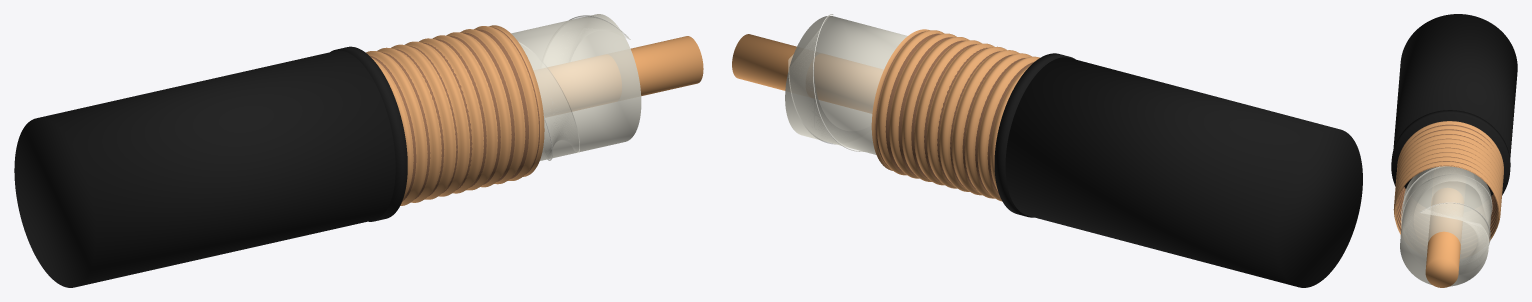
File: rf-fsj1.glb
3 views of the same model, side by side, from view 1: azimuth 30°, elevation 25°; view 2: azimuth 150°, elevation 25°; view 3: azimuth 270°, elevation 25° (orthographic). The views are drawn at different scales.
Visible parts, largest first — view 1: black PE jacket body, corrugated copper shield, foam PE dielectric, solid center conductor continuous, dark groove shadow pass, jacket cut lip, surface PTFE tape wrap; view 2: black PE jacket body, corrugated copper shield, foam PE dielectric, solid center conductor continuous, dark groove shadow pass, jacket cut lip, surface PTFE tape wrap; view 3: black PE jacket body, foam PE dielectric, corrugated copper shield, solid center conductor continuous, surface PTFE tape wrap, jacket cut lip, dark groove shadow pass, subtle PTFE tape lap line.
Boxes of the visible parts, <box> form: black PE jacket body: <box>14,50,395,287</box>; corrugated copper shield: <box>366,25,544,205</box>; foam PE dielectric: <box>511,14,641,160</box>; solid center conductor continuous: <box>534,36,703,116</box>; dark groove shadow pass: <box>369,27,539,201</box>; jacket cut lip: <box>330,46,407,221</box>; surface PTFE tape wrap: <box>519,16,629,159</box>; black PE jacket body: <box>1005,57,1362,287</box>; corrugated copper shield: <box>871,29,1039,201</box>; foam PE dielectric: <box>785,16,907,154</box>; solid center conductor continuous: <box>732,34,883,113</box>; dark groove shadow pass: <box>875,31,1034,194</box>; jacket cut lip: <box>994,53,1075,217</box>; surface PTFE tape wrap: <box>788,15,871,150</box>; black PE jacket body: <box>1393,14,1517,158</box>; foam PE dielectric: <box>1400,166,1491,286</box>; corrugated copper shield: <box>1393,121,1503,241</box>; solid center conductor continuous: <box>1425,188,1463,287</box>; surface PTFE tape wrap: <box>1401,166,1492,266</box>; jacket cut lip: <box>1391,110,1510,196</box>; dark groove shadow pass: <box>1396,124,1497,238</box>; subtle PTFE tape lap line: <box>1401,166,1490,245</box>.
Size of the model in its own units: 6.68 by 1.62 by 1.72.
